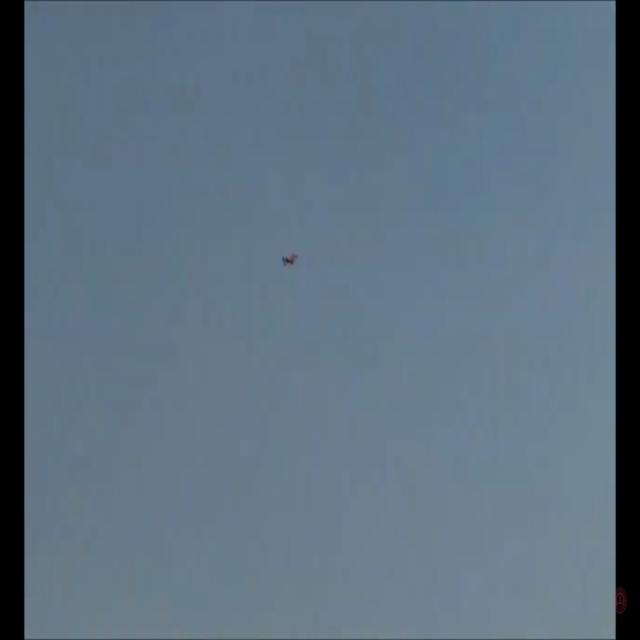iha: (281, 252, 298, 269)
